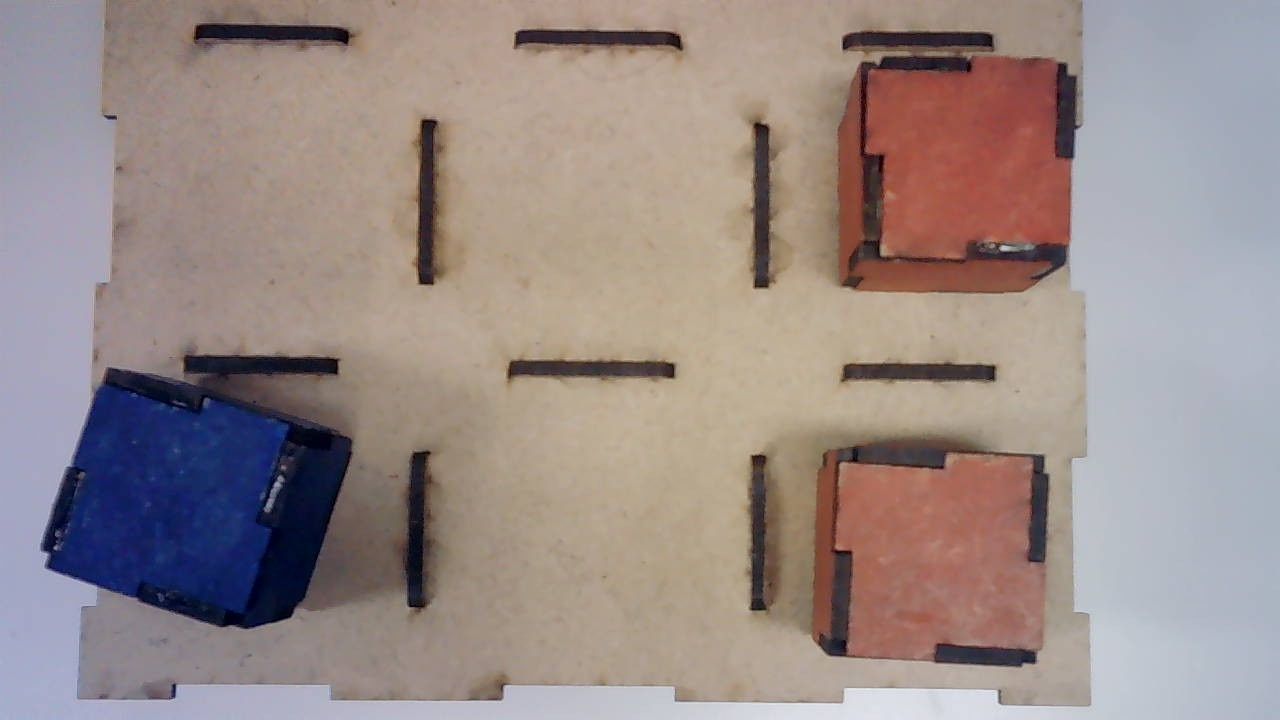blue box: (38, 369, 352, 633)
red box: (836, 53, 1074, 297), (815, 441, 1047, 675)
